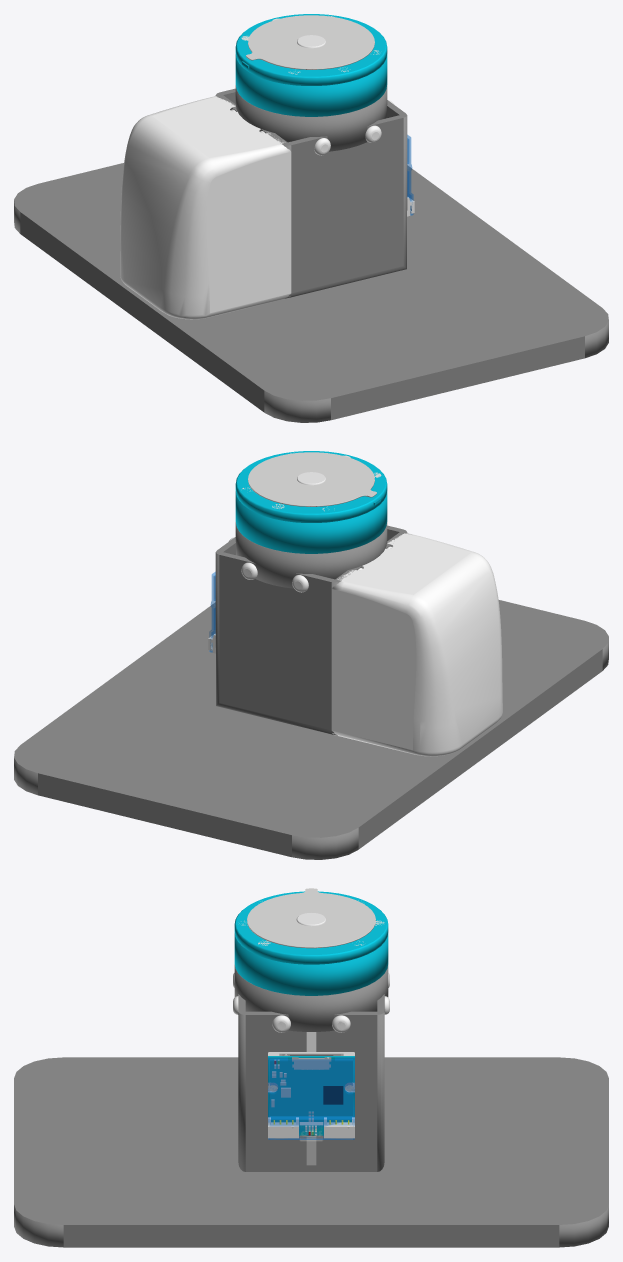
File: waist_link.dae
3 renders of one model, top to bottom at view 1: azimuth 30°, elevation 25°; view 2: azimuth 150°, elevation 25°; view 3: azimuth 270°, elevation 25°, orthographic.
Visible parts, largest first — view 1: FBXASC227FBXASC130FBXASC189FBXASC227FBXASC131FBXASC170FBXAS_ (×6), FBXASC227FBXASC130FBXASC189FBXASC227FBXASC131FBXASC170FBXASC; view 2: FBXASC227FBXASC130FBXASC189FBXASC227FBXASC131FBXASC170FBXAS_ (×6), FBXASC227FBXASC130FBXASC189FBXASC227FBXASC131FBXASC170FBXASC; view 3: FBXASC227FBXASC130FBXASC189FBXASC227FBXASC131FBXASC170FBXASC, FBXASC227FBXASC130FBXASC189FBXASC227FBXASC131FBXASC170FBXAS_ (×9).
Part boxes in pixels (x1,y1,x2,y2): FBXASC227FBXASC130FBXASC189FBXASC227FBXASC131FBXASC170FBXAS_ (×6): (120, 14, 407, 319); FBXASC227FBXASC130FBXASC189FBXASC227FBXASC131FBXASC170FBXASC: (14, 163, 608, 422); FBXASC227FBXASC130FBXASC189FBXASC227FBXASC131FBXASC170FBXAS_ (×6): (215, 451, 502, 756); FBXASC227FBXASC130FBXASC189FBXASC227FBXASC131FBXASC170FBXASC: (14, 600, 608, 859); FBXASC227FBXASC130FBXASC189FBXASC227FBXASC131FBXASC170FBXASC: (14, 1057, 608, 1247); FBXASC227FBXASC130FBXASC189FBXASC227FBXASC131FBXASC170FBXAS_ (×9): (234, 888, 388, 1171).
Size of the model in its own units: 0.16 by 0.24 by 0.109.
